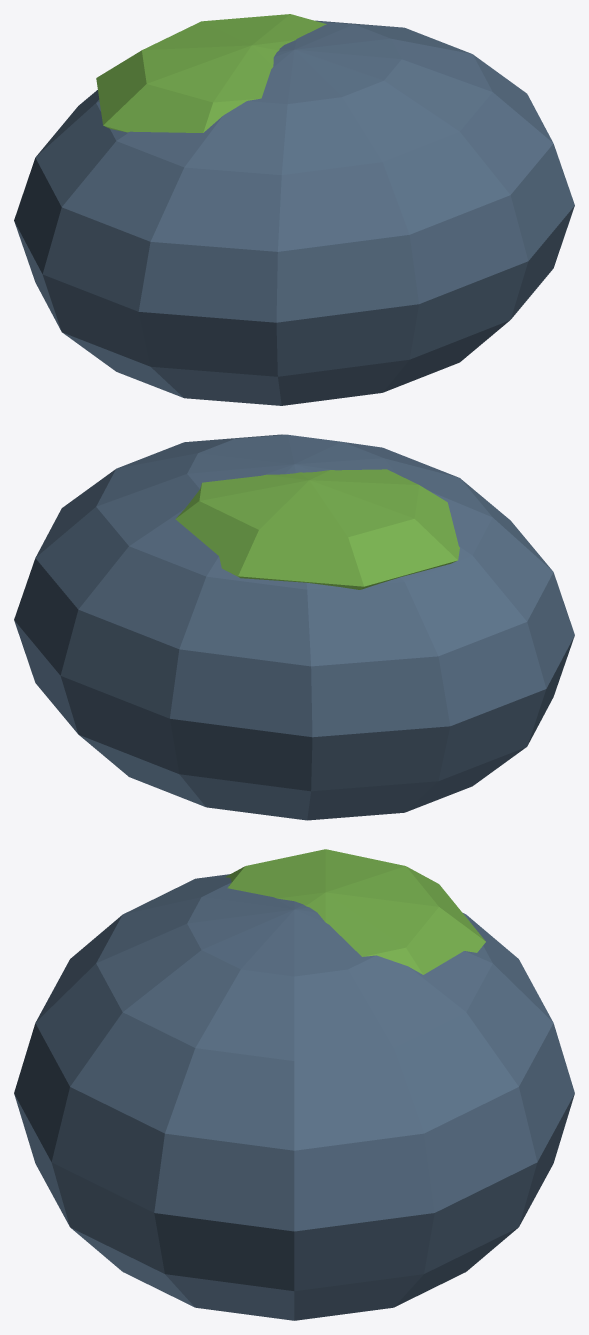
Rendered from rock.glb.
3 views of the same model, one above another, from view 1: azimuth 30°, elevation 25°; view 2: azimuth 150°, elevation 25°; view 3: azimuth 270°, elevation 25° (orthographic). The views are drawn at different scales.
Parts seen in each view (by area): view 1: rock_Surface; view 2: rock_Surface; view 3: rock_Surface.
Boxes of the visible parts, x1,y1,x2,y2 form: rock_Surface: (14,14,574,405); rock_Surface: (14,434,574,820); rock_Surface: (14,849,574,1320).
Bounding box in the file's own units: 2.1 × 1.18 × 1.8.
1 material, 1 textured.
